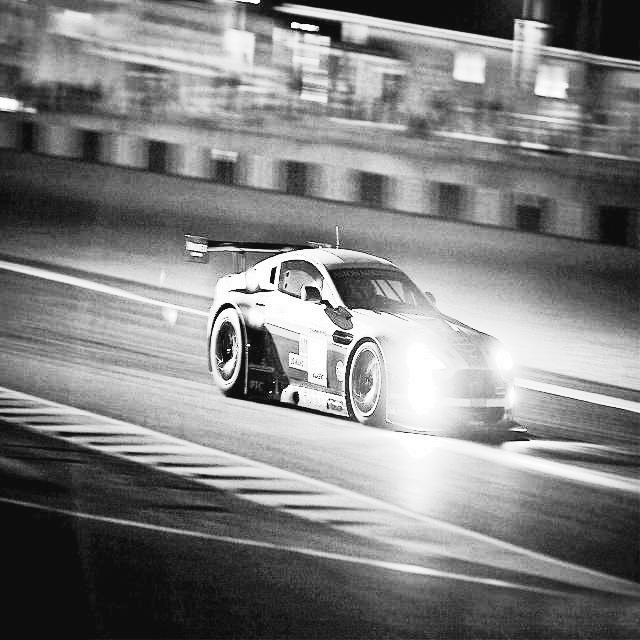Car: (189, 222, 532, 529)
